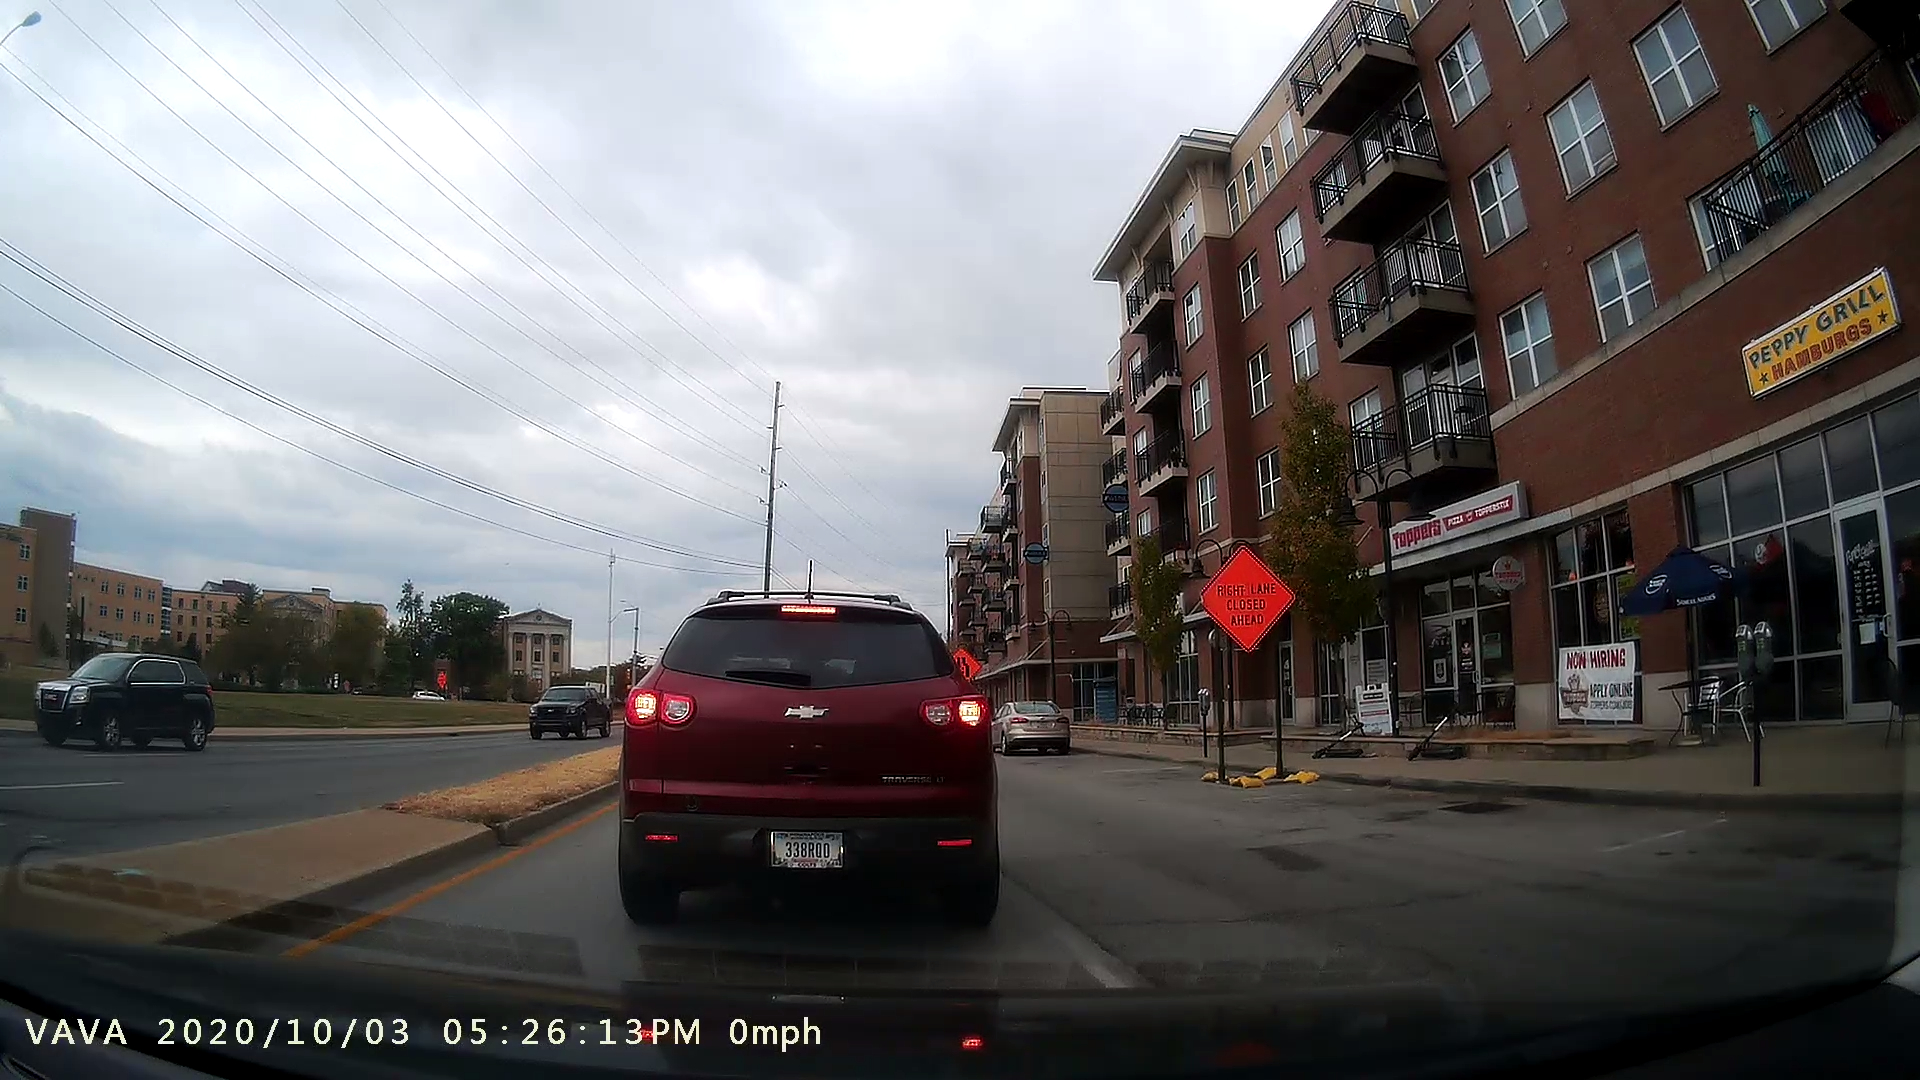ttcs_right_lane_closed_ahead: (1185, 524, 1335, 789)
